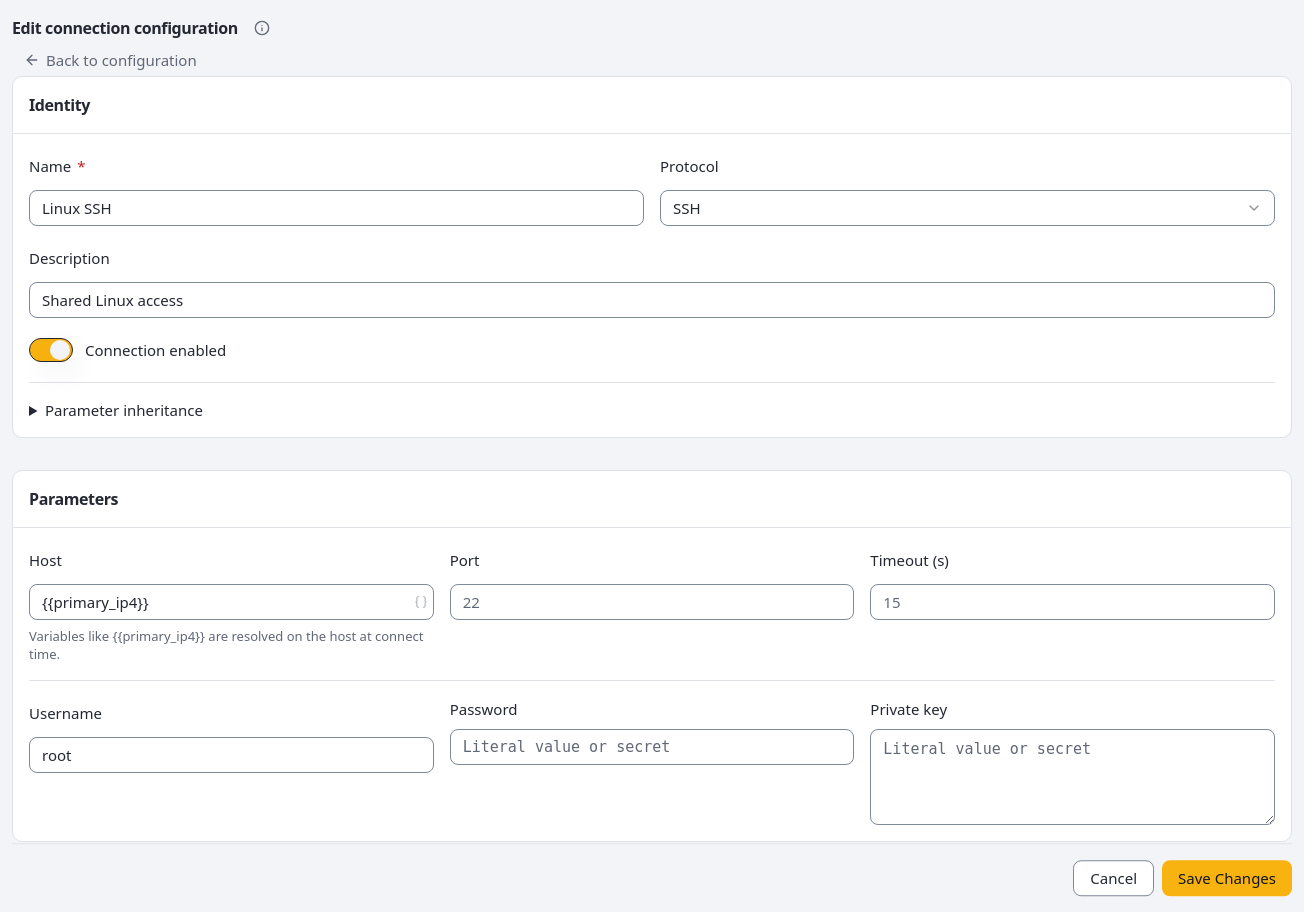
Test: connection configuration pages › keeps the draft after a failed save and retries without losing changes
This screenshot has width=1304, height=912.
Replace the text in the field labelled "Name *" with "Updated SSH". click: (336, 208)
box: [29,190,644,226]
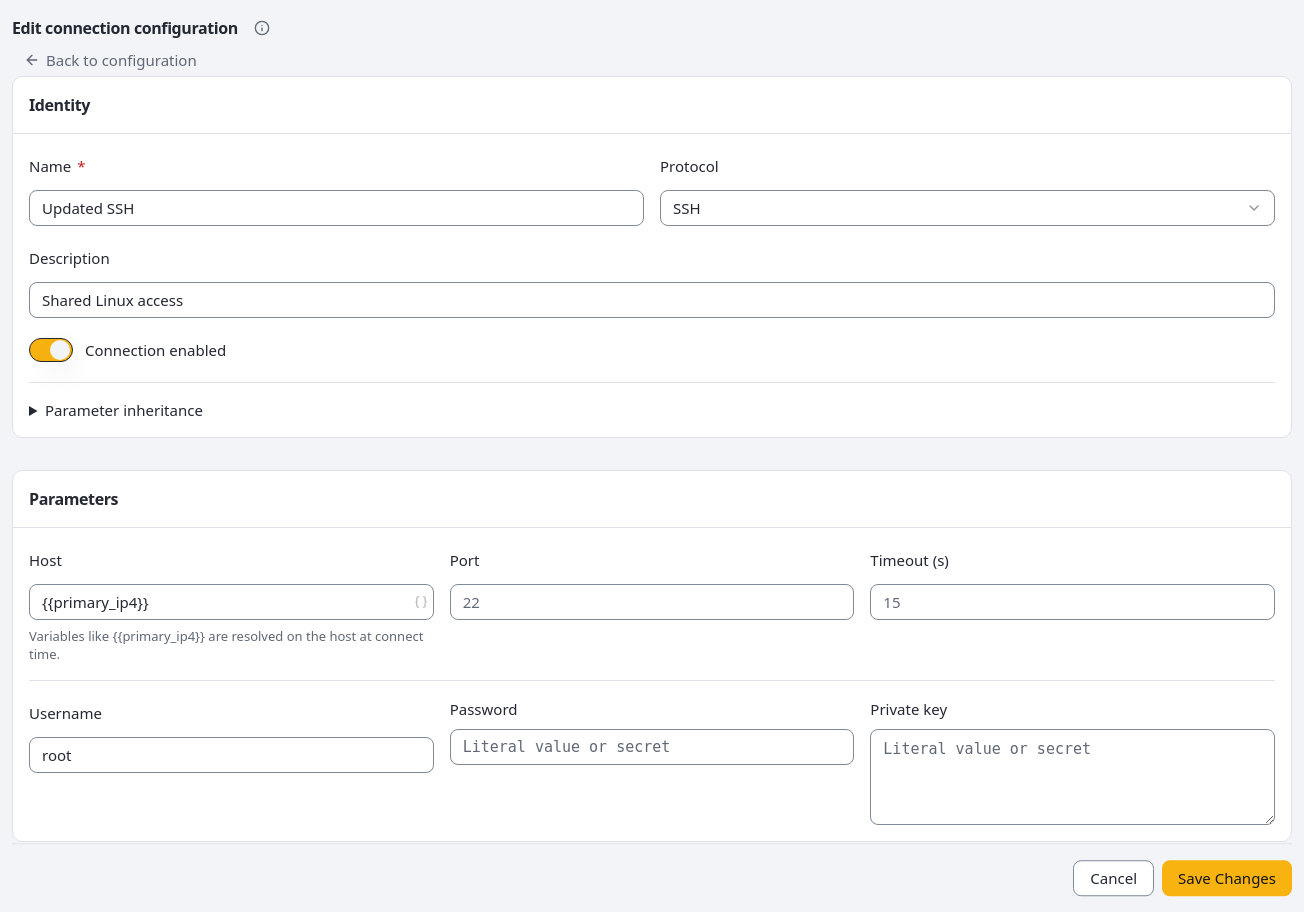
Click the button "Save Changes". click: (1227, 878)
box: [1162,860,1292,896]
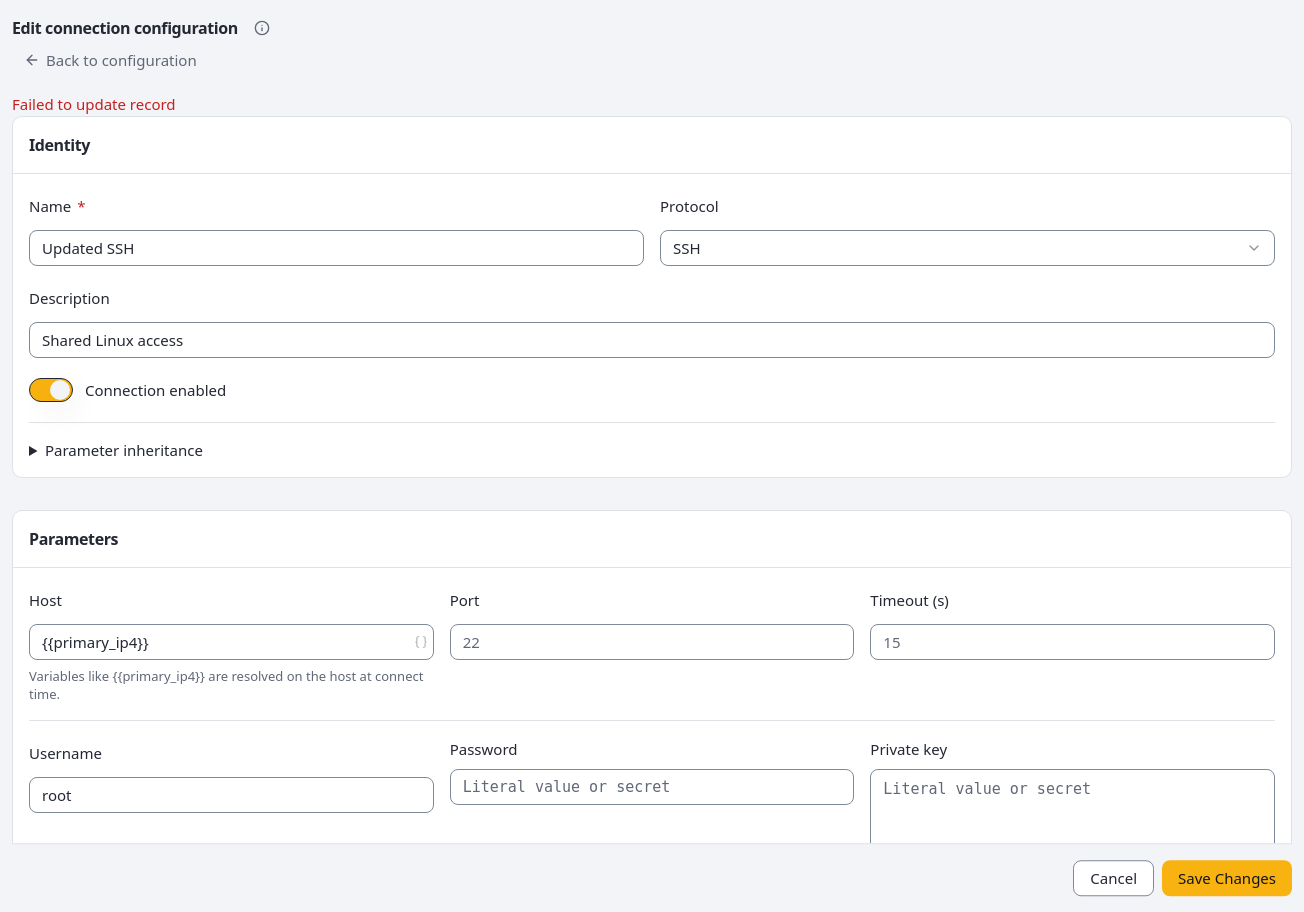
Expected: the message reads "Failed to update record", [12,94,176,114]
Click the button "Save Changes". click: (1227, 878)
box: [1162,860,1292,896]
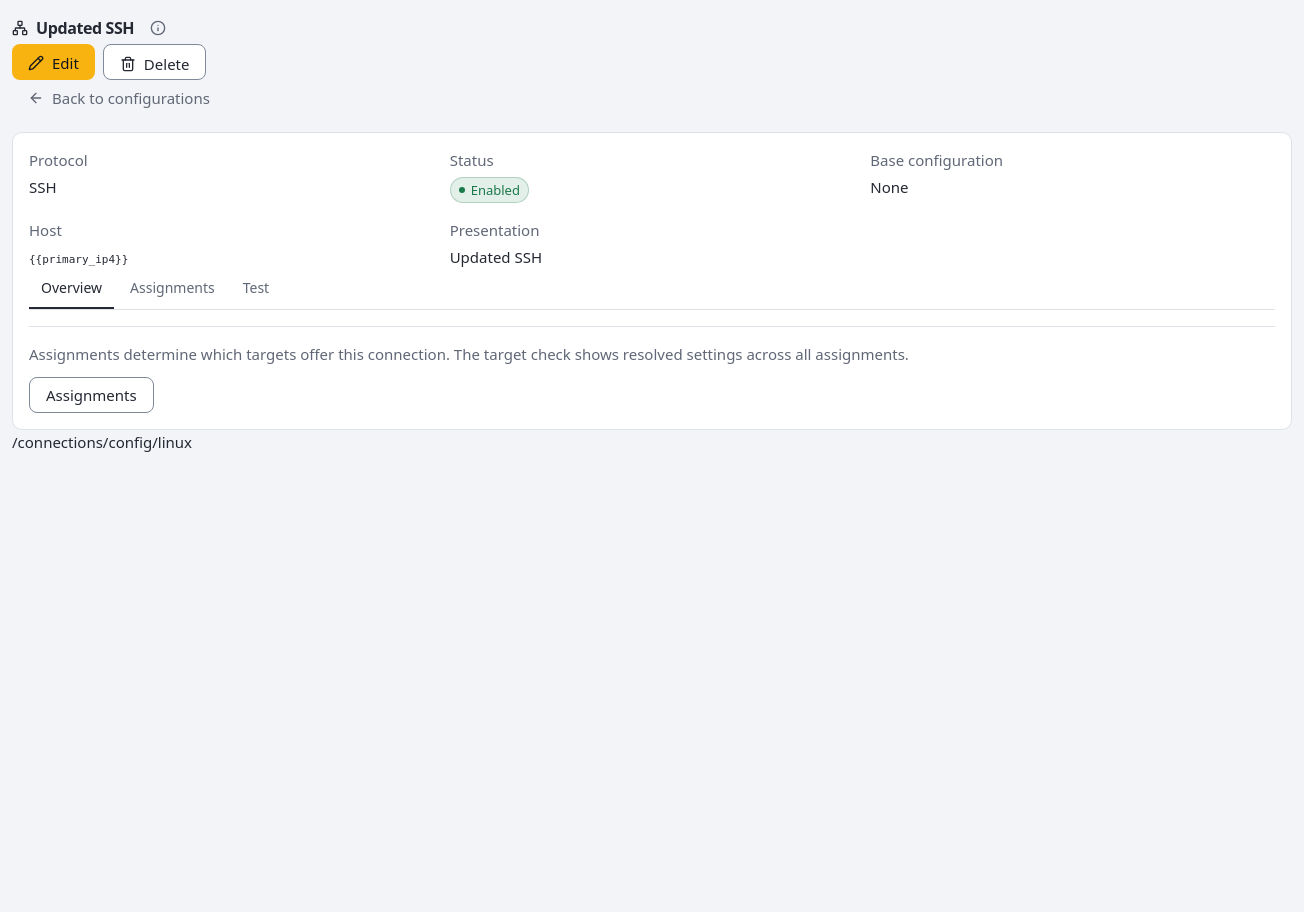
Expected: the heading "Updated SSH" is shown, [36,16,134,40]
